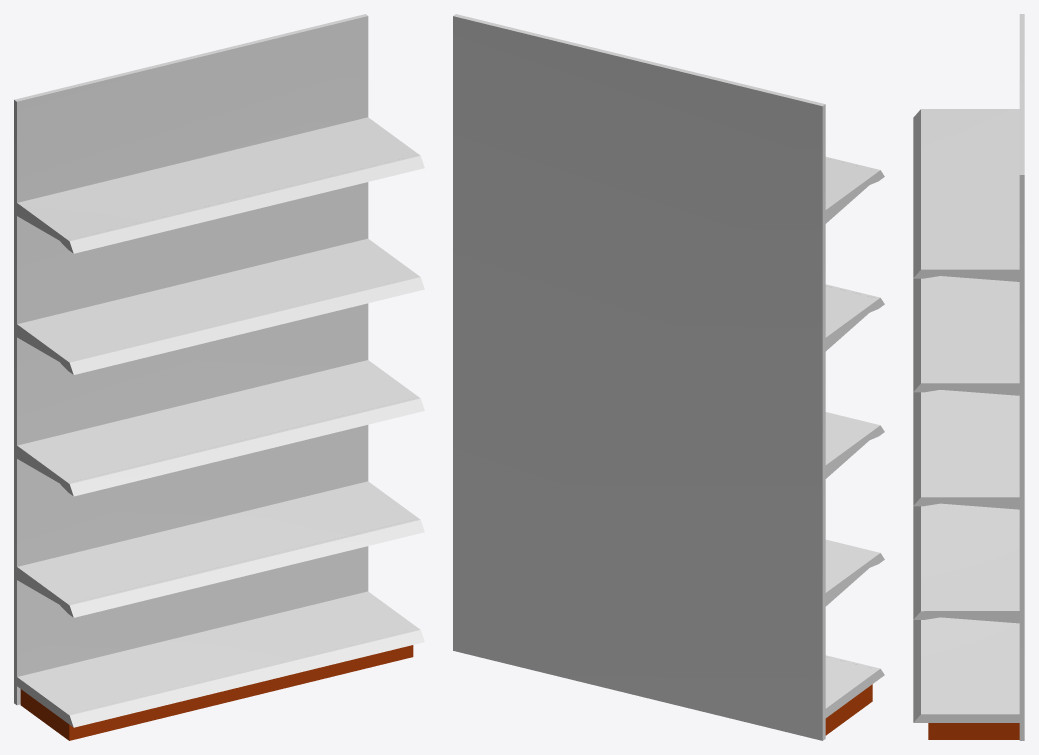
File: Shelf.fbx
3 views of the same model, side by side, from view 1: azimuth 30°, elevation 25°; view 2: azimuth 150°, elevation 25°; view 3: azimuth 270°, elevation 25° (orthographic). The views are drawn at different scales.
Visible parts, largest first — view 1: Shelf; view 2: Shelf; view 3: Shelf.
Part boxes in pixels (x1,y1,x2,y2): Shelf: (14,14,424,740); Shelf: (453,14,884,740); Shelf: (913,14,1024,740).
Bounding box in the file's own units: 147 × 241 × 43.05.
